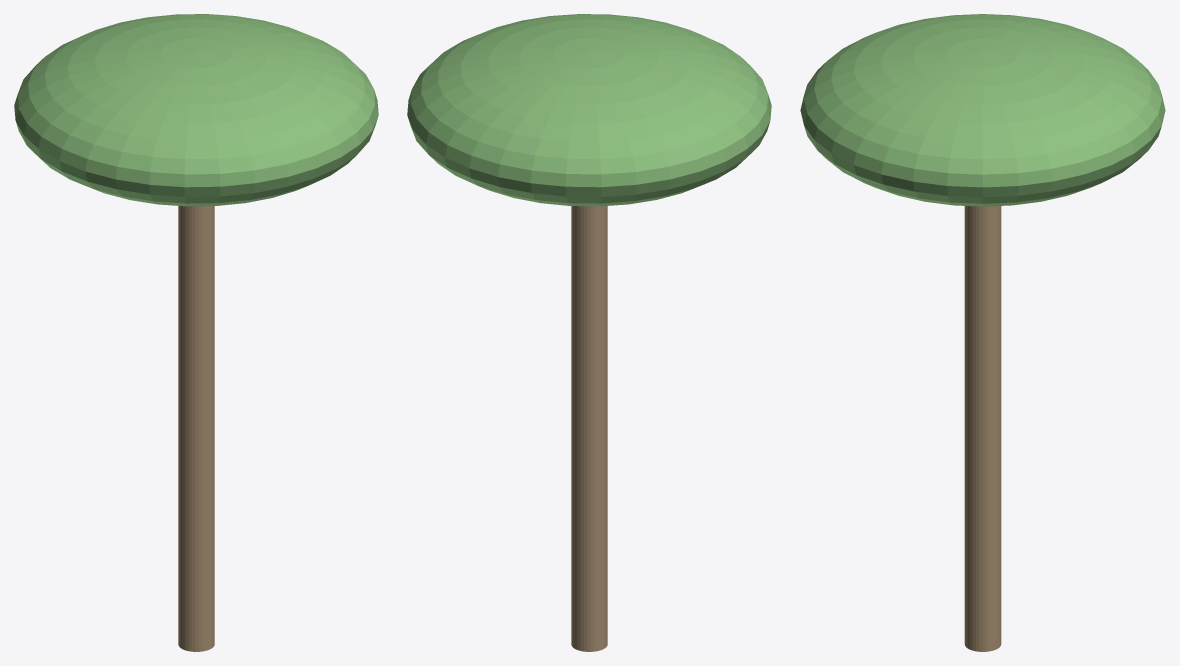
The model's file is gourd-posed-palm-a.glb.
The picture shows the model from 3 angles, left to right: view 1: azimuth 30°, elevation 25°; view 2: azimuth 150°, elevation 25°; view 3: azimuth 270°, elevation 25°; orthographic projection.
Visible parts, largest first — view 1: Sphere; view 2: Sphere; view 3: Sphere.
Boxes of the visible parts, x1=… form: Sphere: x1=14, y1=14, x2=378, y2=651; Sphere: x1=407, y1=14, x2=771, y2=651; Sphere: x1=800, y1=14, x2=1165, y2=651.
Size of the model in its own units: 0.3 by 0.5365 by 0.3.
